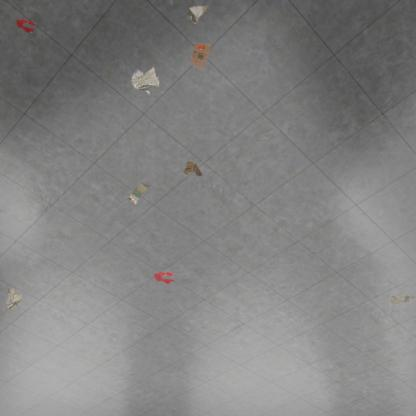dirty: (130, 65, 159, 94), (188, 41, 213, 72), (0, 284, 24, 315), (127, 180, 151, 206), (185, 4, 212, 25), (182, 159, 204, 179), (387, 293, 415, 308)
liquid: (153, 270, 177, 286), (15, 18, 39, 34)
